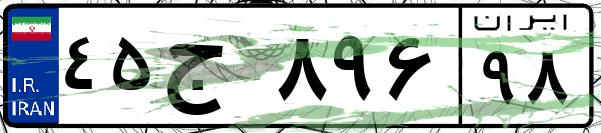4: (57, 26, 110, 100)
5: (110, 28, 158, 98)
6: (385, 28, 445, 110)
8: (270, 28, 330, 110), (525, 38, 570, 115)
9: (330, 28, 385, 110), (475, 38, 525, 113)
ج: (158, 20, 270, 120)
